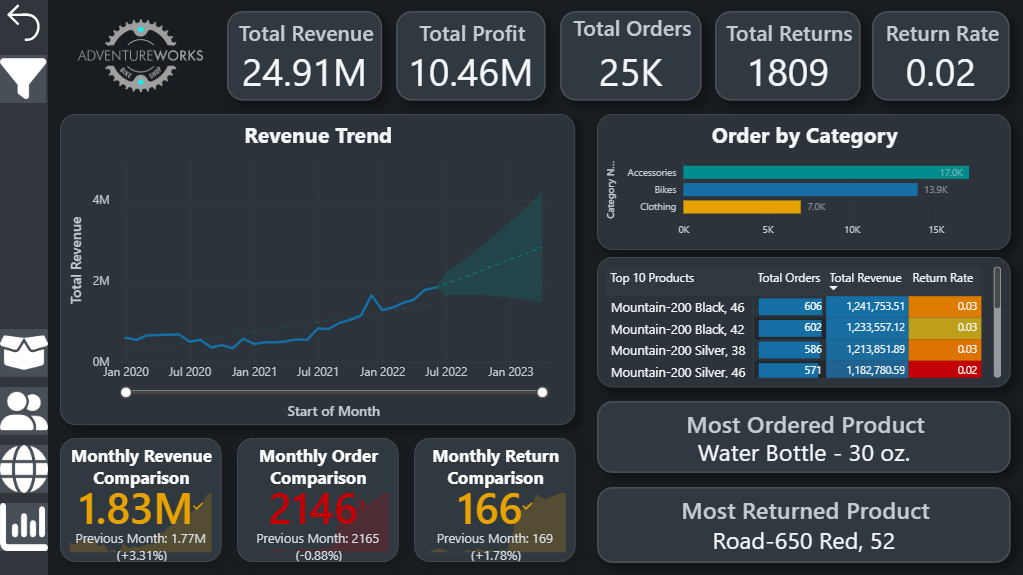

This screenshot's page, from the dashboard's own definition file:
{"tool":"powerbi","page":{"name":"Executive Dashboard","canvas":[1280,720],"ordinal":0},"visuals":[{"type":"shape","box":[0,0,60,720],"z":0,"group":"g1"},{"type":"clusteredBarChart","title":"Order by Category","fields":{"Category":["Product Categories Lookup.CategoryName"],"Y":["Measure Table.Total Orders"]},"box":[745.7,143.3,517.3,170],"z":0},{"type":"pivotTable","fields":{"Rows":["Product Lookup.ProductName"],"Values":["Measure Table.Total Orders","Measure Table.Total Revenue","Measure Table.Return Rate"]},"box":[745.7,323,517.3,162.7],"z":1000},{"type":"actionButton","box":[0,630,60,60],"z":1000,"group":"g1"},{"type":"card","title":"Total Revenue","fields":{"Values":["Measure Table.Total Revenue"]},"box":[284.2,14.6,194.3,111.7],"z":2000},{"type":"actionButton","box":[0,557,60,60],"z":2000,"group":"g1"},{"type":"card","title":"Total Orders","fields":{"Values":["Measure Table.Total Orders"]},"box":[699.5,14.6,177.3,111.7],"z":3000},{"type":"actionButton","box":[0,413,59.6,59.6],"z":3000,"group":"g1"},{"type":"card","title":"Total Profit","fields":{"Values":["Measure Table.Total Profit"]},"box":[495.5,14.6,187,111.7],"z":4000},{"type":"actionButton","box":[0,484.9,59.6,59.6],"z":4000,"group":"g1"},{"type":"card","title":"Total Returns","fields":{"Values":["Measure Table.Total Returns"]},"box":[893.8,14.6,182.2,111.7],"z":5000},{"type":"card","title":"Return Rate","fields":{"Values":["Measure Table.Return Rate"]},"box":[1090.6,14.6,172.4,111.7],"z":6000},{"type":"lineChart","title":"Revenue Trend","fields":{"Category":["Calendar Lookup.Custom Date Hierarchy.Start of Month","Calendar Lookup.Custom Date Hierarchy.Start of Quarter","Calendar Lookup.Custom Date Hierarchy.Start of Week","Calendar Lookup.Custom Date Hierarchy.Start of Year"],"Y":["Measure Table.Total Revenue"]},"box":[75.3,143.3,643.6,388.6],"z":7000},{"type":"card","title":"Most Ordered Product","fields":{"Values":["Min(Product Lookup.ProductName)"]},"box":[745.7,502.8,517.3,89.9],"z":8000},{"type":"card","title":"Most Returned Product","fields":{"Values":["Min(Product Lookup.ProductName)"]},"box":[745.7,609.6,517.3,94.7],"z":9000},{"type":"kpi","title":"Monthly Return Comparison","fields":{"Indicator":["Measure Table.Total Returns"],"TrendLine":["Calendar Lookup.Start of Month"],"Goal":["Measure Table.Previous Month Returns"]},"box":[517.3,548.9,202,155.4],"z":10000},{"type":"kpi","title":"Monthly Order Comparison","fields":{"Goal":["Measure Table.Previous Month Orders"],"Indicator":["Measure Table.Total Orders"],"TrendLine":["Calendar Lookup.Start of Month"]},"box":[296.3,548.9,201.6,155.4],"z":11000},{"type":"kpi","title":"Monthly Revenue Comparison","fields":{"Indicator":["Measure Table.Total Revenue"],"Goal":["Measure Table.Previous Month Revenue"],"TrendLine":["Calendar Lookup.Start of Month"]},"box":[75.3,548.9,201.6,155.4],"z":12000},{"type":"image","box":[75.1,15.5,202.1,111.4],"z":13000},{"type":"group","id":"g1","title":"Group 1","box":[0,0,59.6,720],"z":14000,"group":"g2"},{"type":"actionButton","box":[0,70,58.3,60],"z":15000,"group":"g2"},{"type":"actionButton","box":[0,0,59,59],"z":17000,"group":"g2"},{"type":"group","id":"g2","title":"Group 2","box":[0,0,59.6,720],"z":17001}]}

Visuals, with their boxes in screenshot pixels (x1, y1, x2, y2), scaled from the page's 1280x720 canvas onto the 1023x575 screenshot:
shape: 0, 0, 48, 574
"Order by Category" clusteredBarChart: 596, 114, 1009, 250
pivotTable - Product Lookup.ProductName x Measure Table.Total Orders: 596, 258, 1009, 388
actionButton: 0, 503, 48, 551
"Total Revenue" card: 227, 12, 382, 101
actionButton: 0, 445, 48, 493
"Total Orders" card: 559, 12, 701, 101
actionButton: 0, 330, 48, 377
"Total Profit" card: 396, 12, 545, 101
actionButton: 0, 387, 48, 435
"Total Returns" card: 714, 12, 860, 101
"Return Rate" card: 872, 12, 1009, 101
"Revenue Trend" lineChart: 60, 114, 575, 425
"Most Ordered Product" card: 596, 402, 1009, 473
"Most Returned Product" card: 596, 487, 1009, 562
"Monthly Return Comparison" kpi: 413, 438, 575, 562
"Monthly Order Comparison" kpi: 237, 438, 398, 562
"Monthly Revenue Comparison" kpi: 60, 438, 221, 562
image: 60, 12, 222, 101
"Group 1" group: 0, 0, 48, 574
actionButton: 0, 56, 47, 104
actionButton: 0, 0, 47, 47
"Group 2" group: 0, 0, 48, 574
